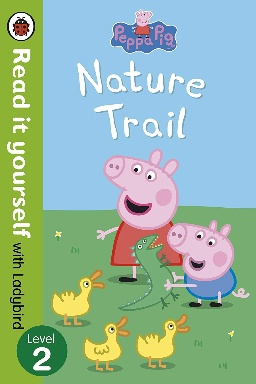Peppa: (94, 147, 185, 285)
